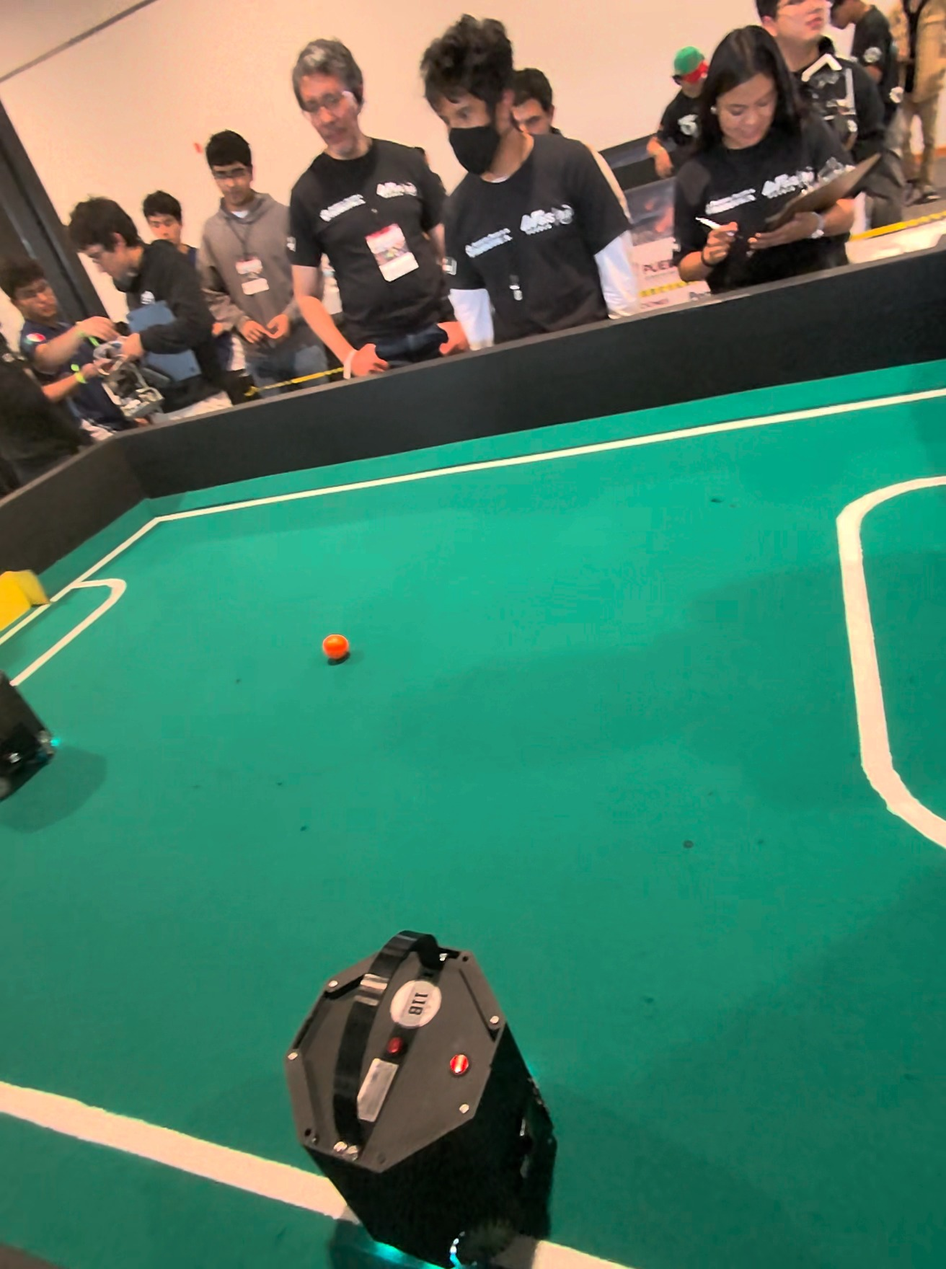Robot: (282, 917, 575, 1269), (0, 607, 69, 825)
pelota: (303, 625, 361, 676)
